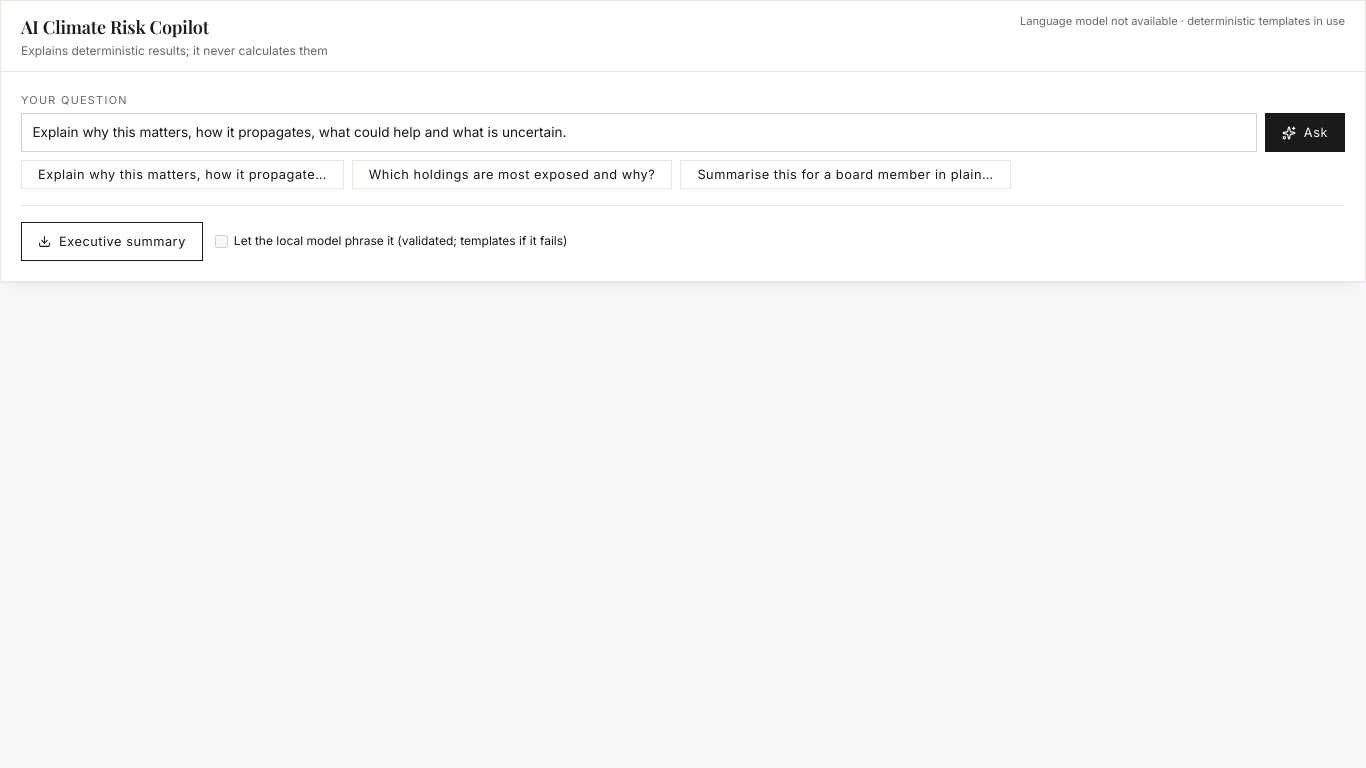
Test case: CopilotPanel › shows the unavailable-model state without blocking the feature
The width and height of the screenshot is (1366, 768).
Expected: the text with test id "copilot-status" reads "Language model not available · deterministic templates in use", [1020, 14, 1345, 28]
Expected: the checkbox is disabled, [215, 235, 228, 248]
Click the button "Ask".
click(1305, 132)  # box [1265, 113, 1345, 152]
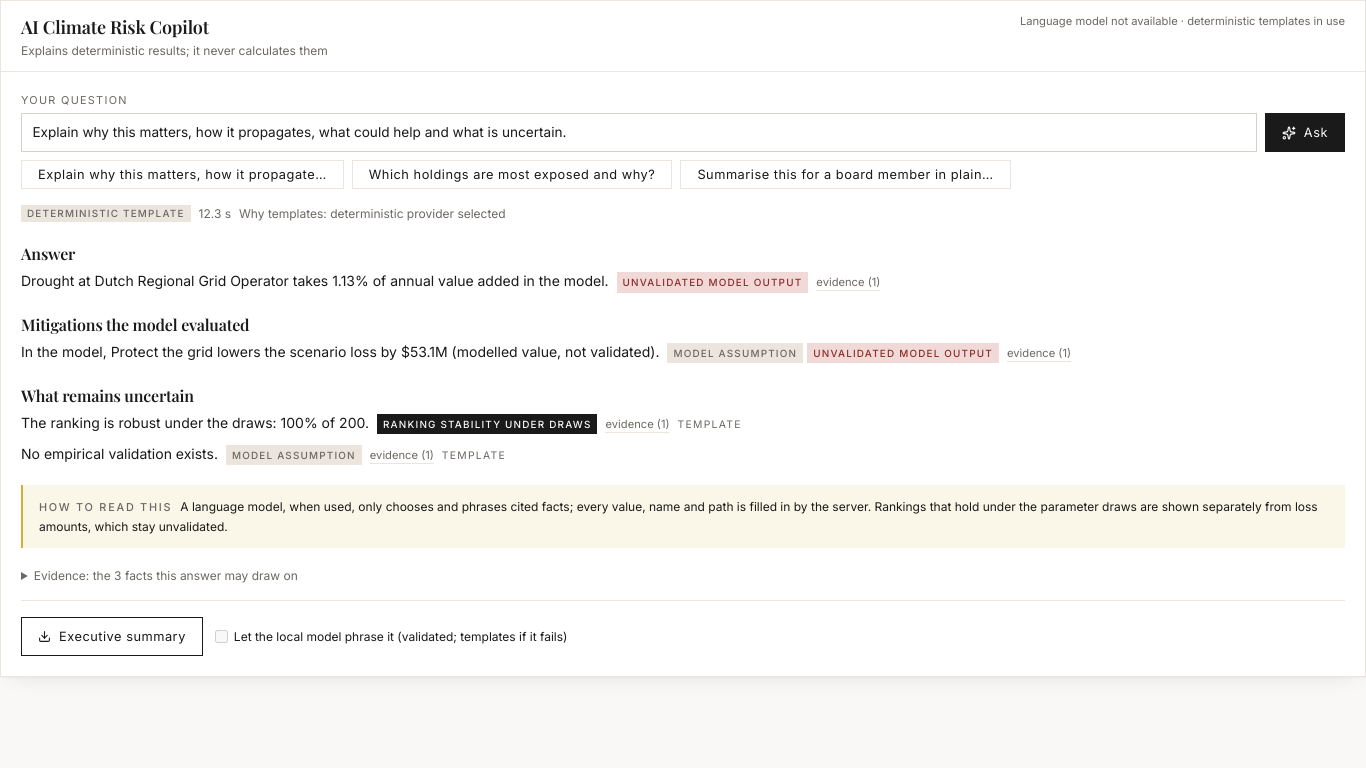
Expected: the element with test id "copilot-answer" is shown, [21, 205, 1345, 584]
